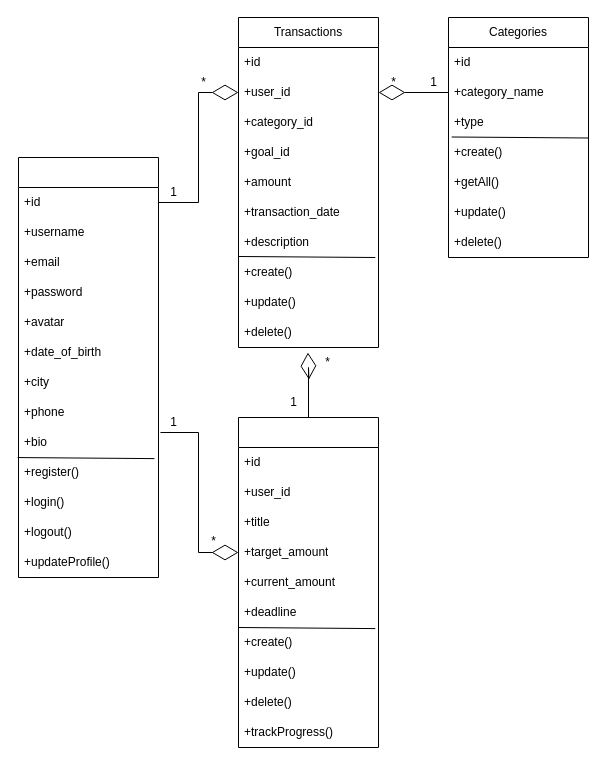
Image size: 607x765. Some labels were removed from this diagram. The shapes that lost their labels are listed below. From the top down, each one's box as (x1, y1, x2, y2) in pixels, then its label:
(18, 156, 158, 578): Users
(238, 416, 378, 748): Goals
